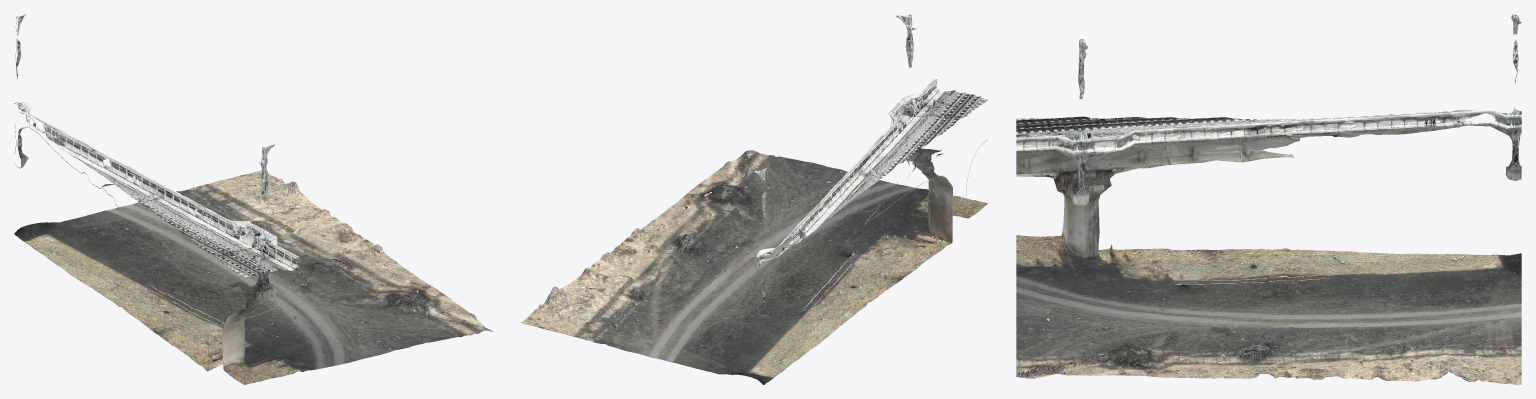
File: Block_L20_438.glb
3 views of the same model, side by side, from view 1: azimuth 30°, elevation 25°; view 2: azimuth 150°, elevation 25°; view 3: azimuth 270°, elevation 25° (orthographic). The views are drawn at different scales.
Parts seen in each view (by area): view 1: rtc; view 2: rtc; view 3: rtc.
Boxes of the visible parts, x1=… form: rtc: x1=14, y1=14, x2=492, y2=384; rtc: x1=521, y1=14, x2=987, y2=384; rtc: x1=1016, y1=14, x2=1521, y2=384.
Bounding box in the file's own units: 23.49 × 19.99 × 37.67.
2 materials, 2 textured.
